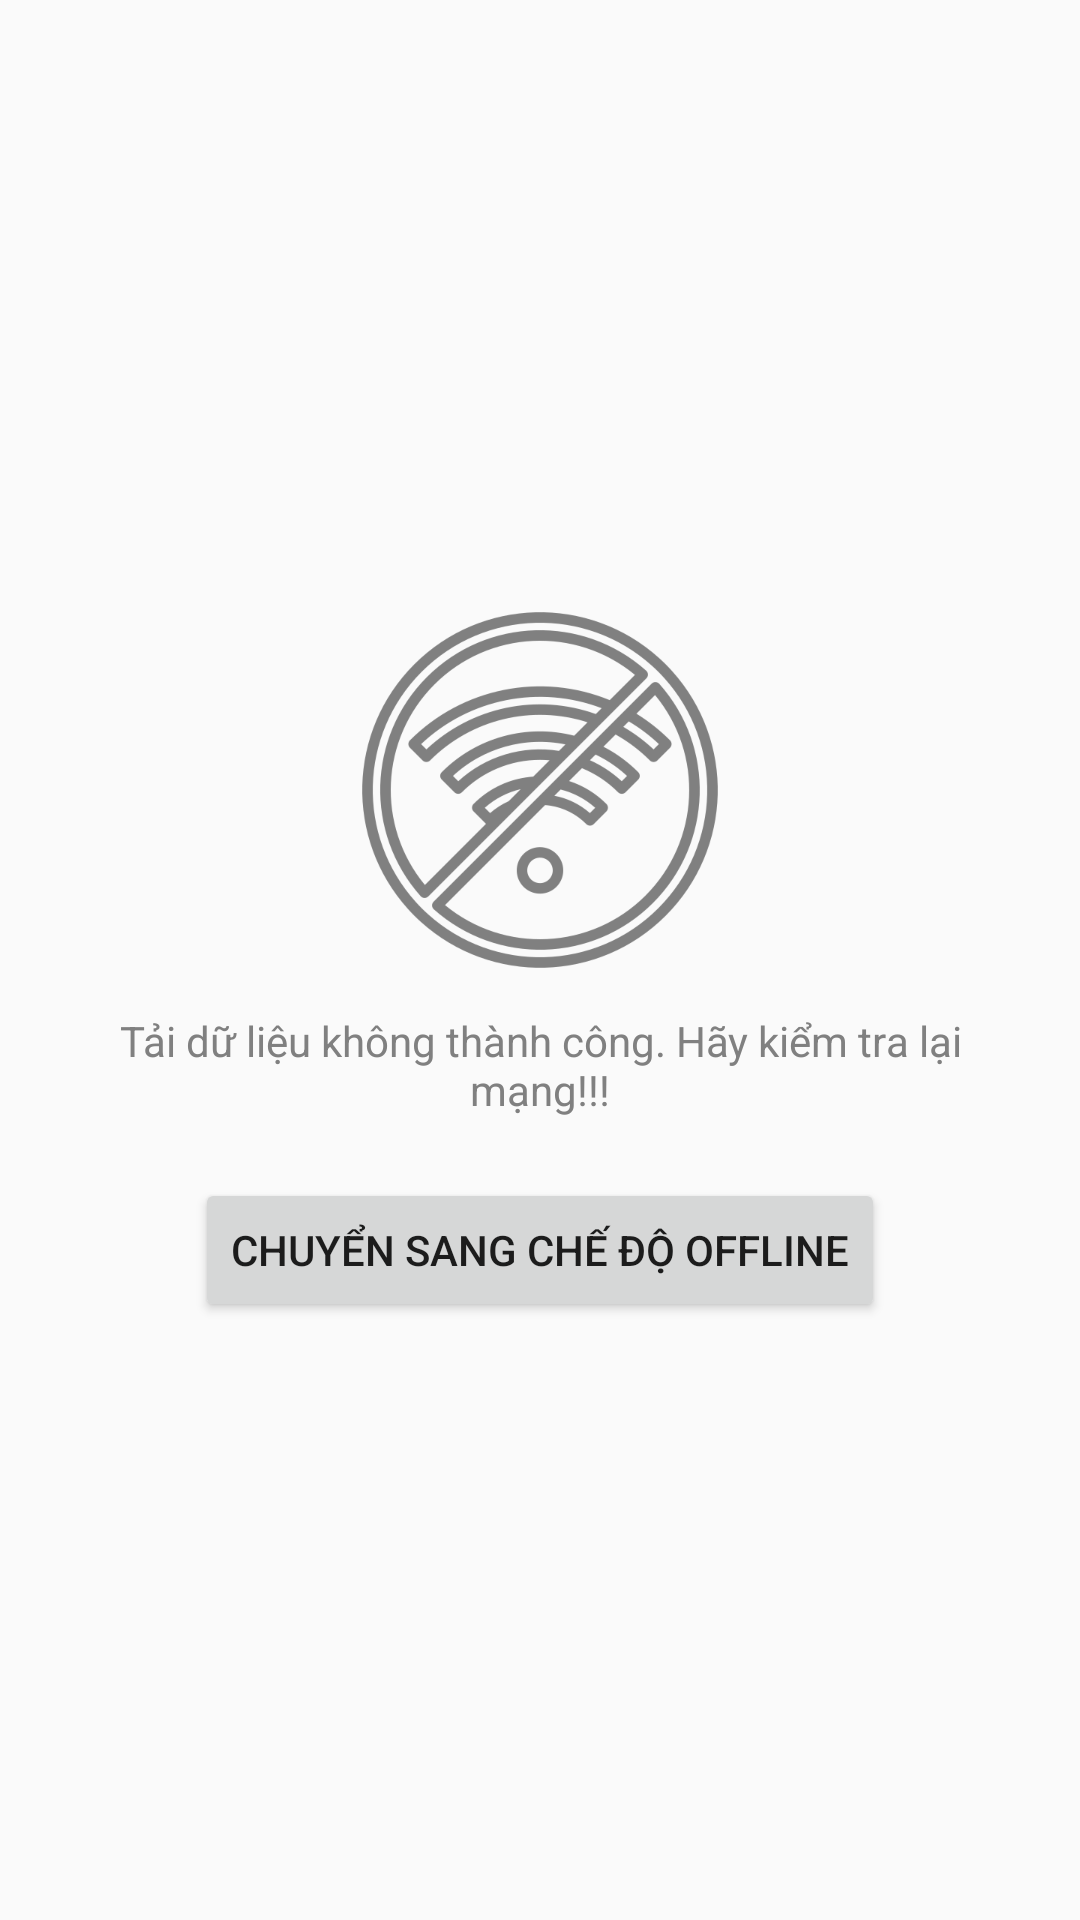

Where icons sit on this 1080px×1920px app screen, as {"left": x1, "top": y1, "right": x2, "bottom": y2}:
no internet: {"left": 362, "top": 612, "right": 718, "bottom": 968}
